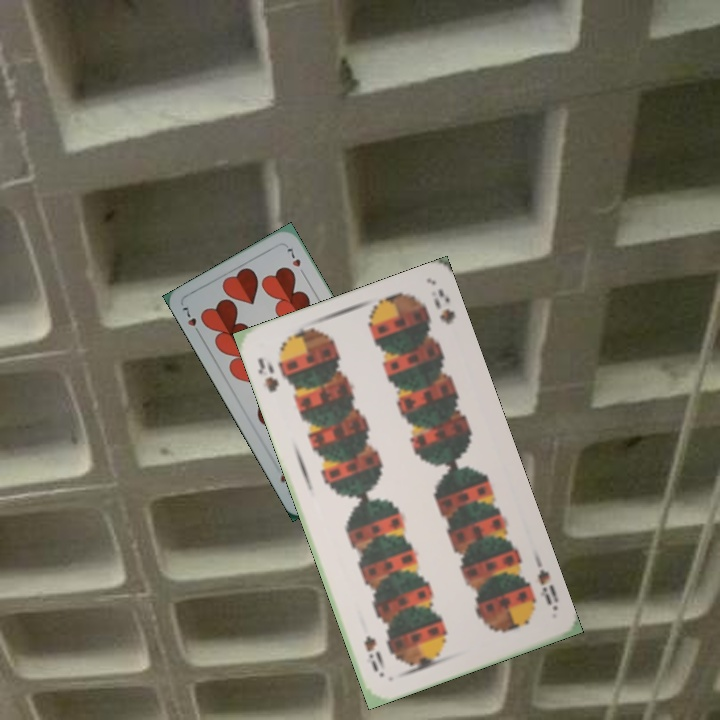H7: (178, 303, 204, 339)
S8: (253, 354, 282, 395), (533, 565, 555, 608)
